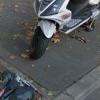Motorcycle: (17, 1, 94, 65)
